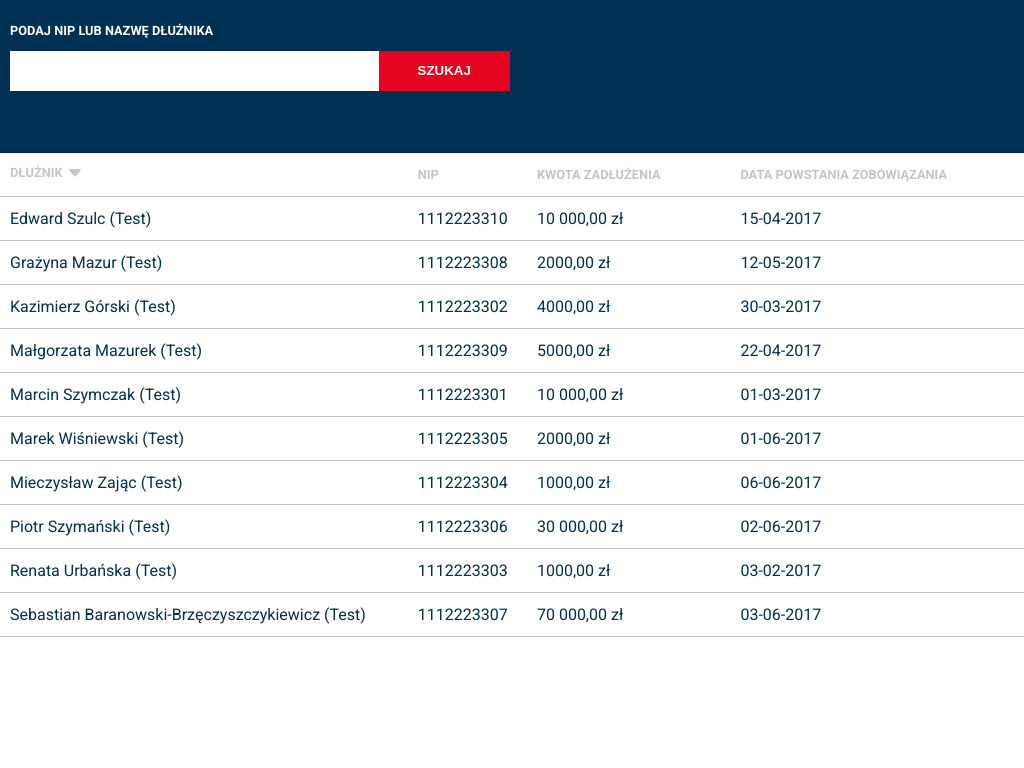
<App /> › display no records text when no record were found after search
The image size is (1024, 768).
Type "testquery" into the field at (194, 71), box [10,51,378,91]
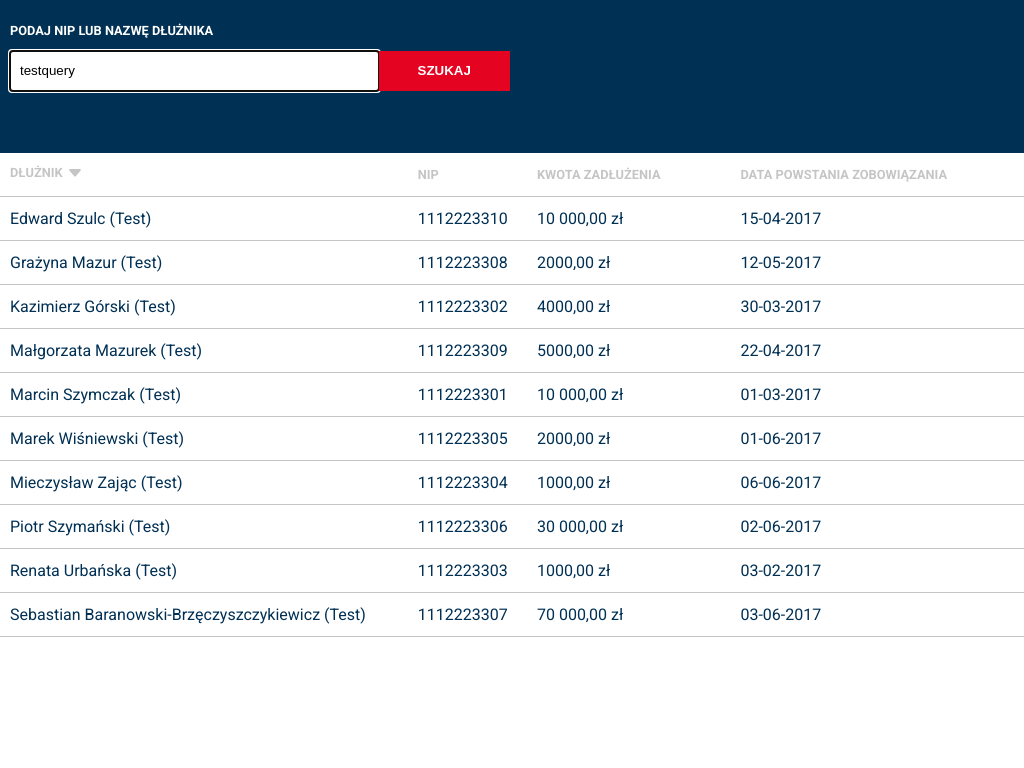
Click the button at (444, 71), box [378,51,510,91]
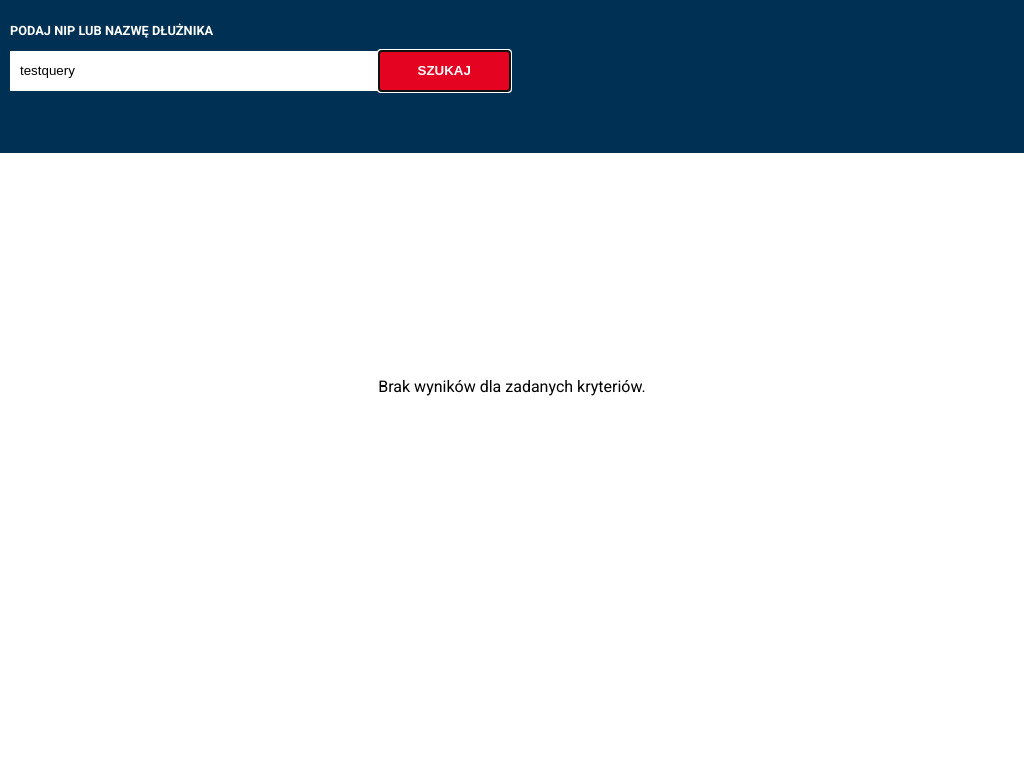
Expected: the text "Brak wyników dla zadanych kryteriów." is shown, [378,377,646,396]
